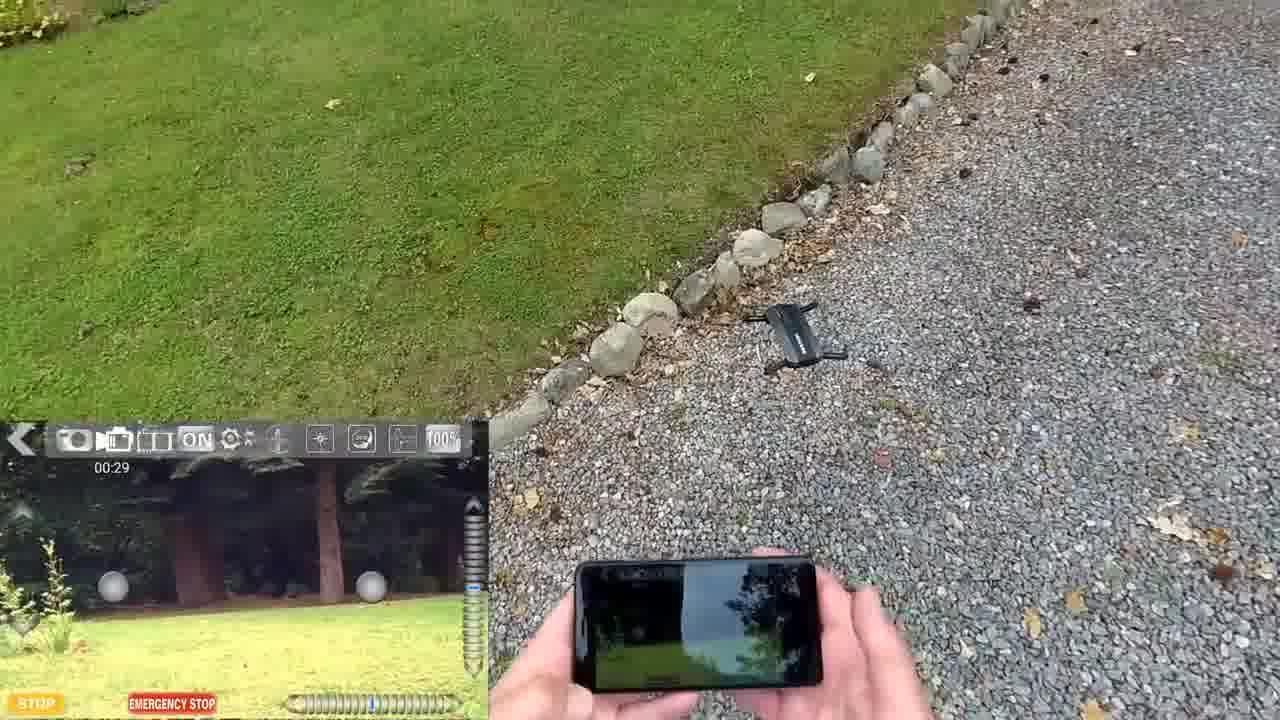drone: (741, 294, 857, 387)
